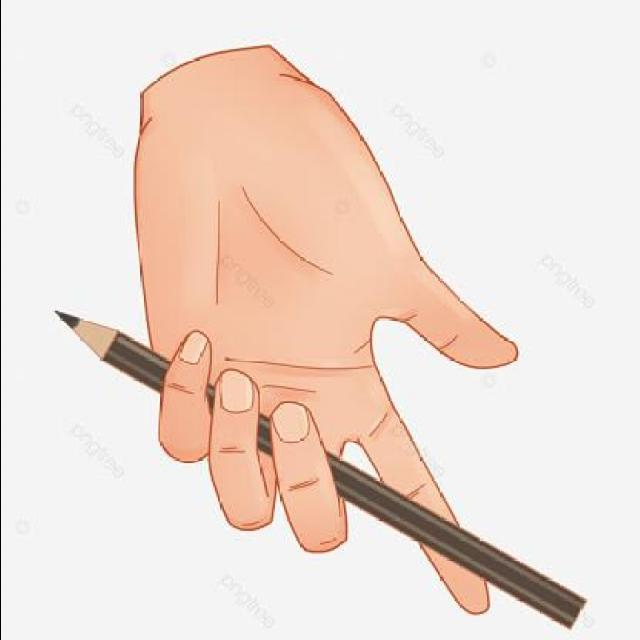pencil: (44, 310, 148, 373)
